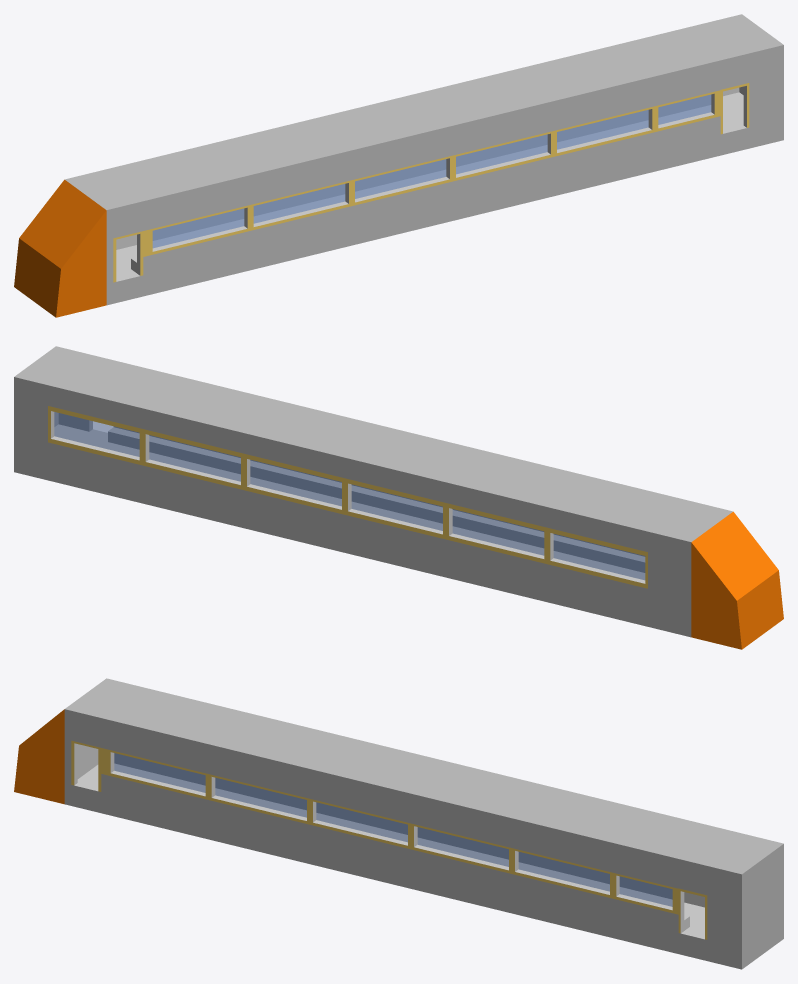
File: Train.fbx
The picture shows the model from 3 angles, top to bottom: view 1: azimuth 30°, elevation 25°; view 2: azimuth 150°, elevation 25°; view 3: azimuth 330°, elevation 25°; orthographic projection.
Visible parts, largest first — view 1: Group1; view 2: Group1; view 3: Group1.
Part boxes in pixels (x1,y1,x2,y2): Group1: (14,14,783,317); Group1: (14,346,783,649); Group1: (14,678,783,969).
Bounding box in the file's own units: 3960 × 495 × 396.
